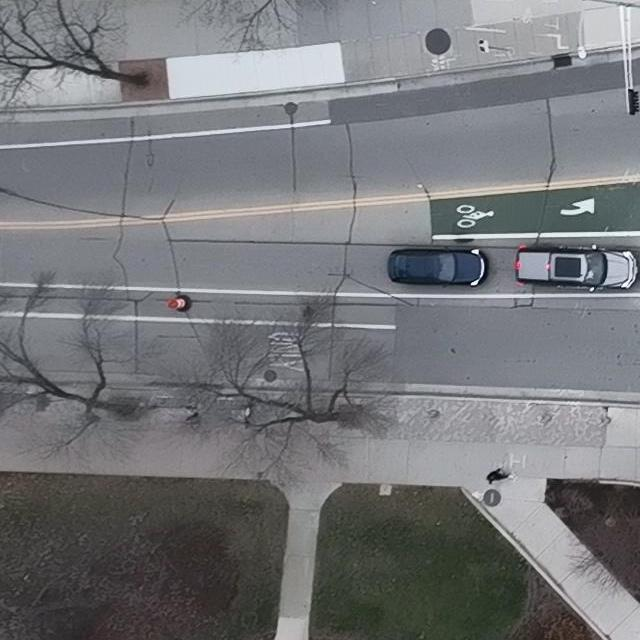car: (513, 242, 638, 294), (387, 249, 489, 287)
